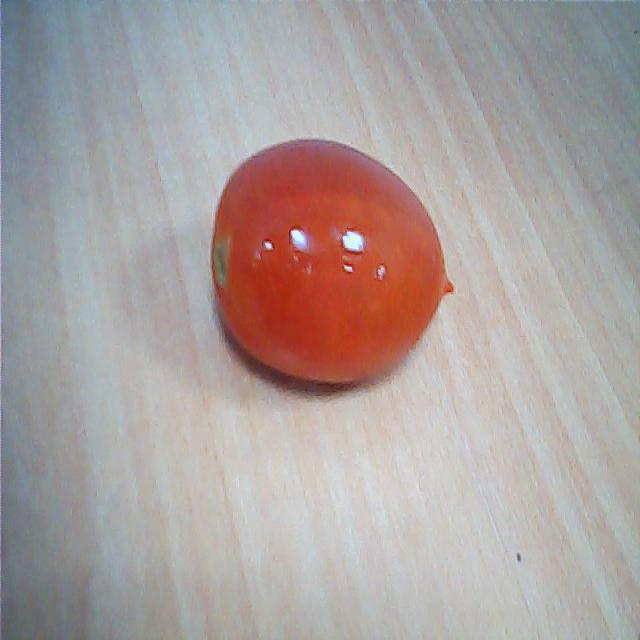maduro: (206, 133, 455, 390)
